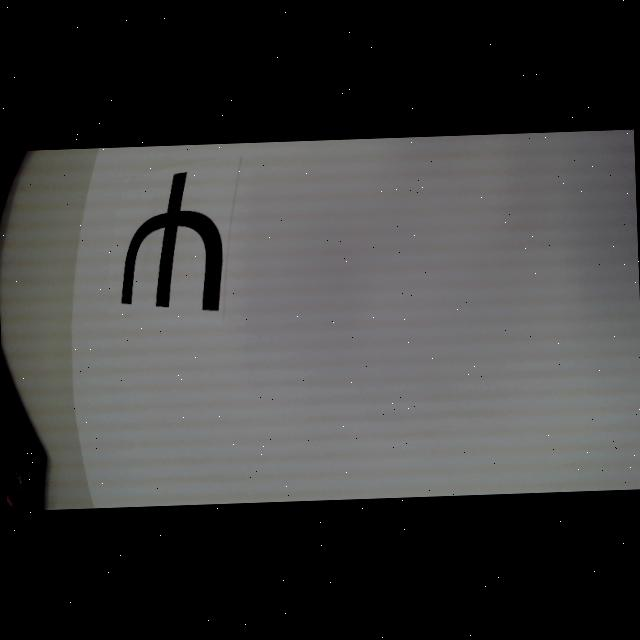PSI: (115, 168, 225, 314)
